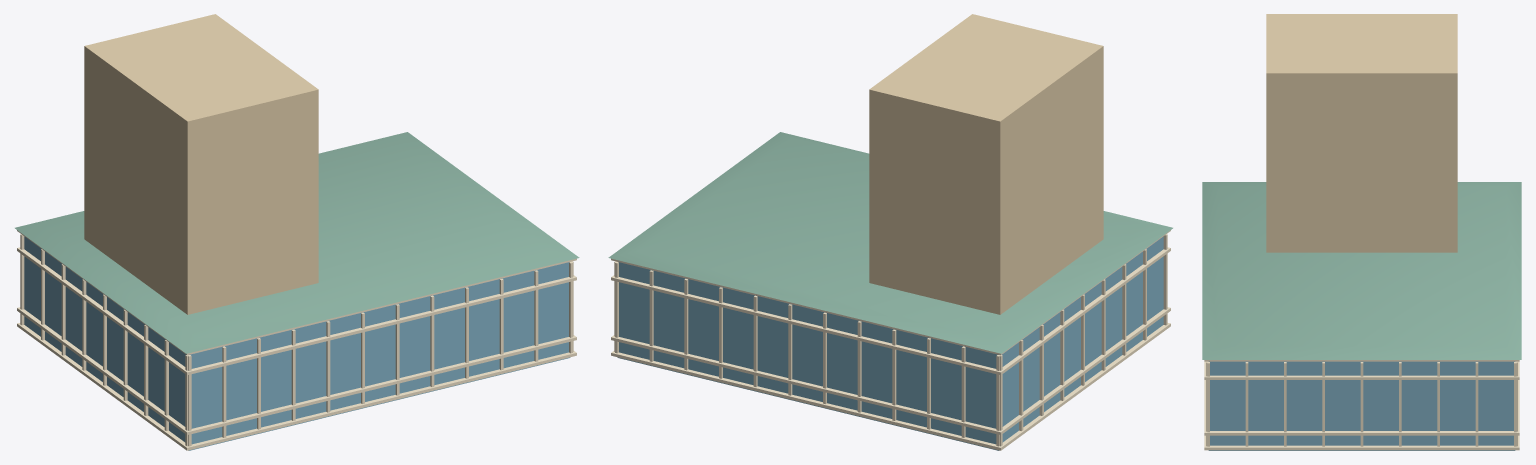
The model's file is modern-3-lod1.glb.
3 views of the same model, side by side, from view 1: azimuth 30°, elevation 25°; view 2: azimuth 150°, elevation 25°; view 3: azimuth 270°, elevation 25° (orthographic). The views are drawn at different scales.
Parts seen in each view (by area): view 1: modern-3_architecture; view 2: modern-3_architecture; view 3: modern-3_architecture.
Part boxes in pixels (box(x1,y1,x2,y2)): modern-3_architecture: box(15, 14, 579, 450); modern-3_architecture: box(608, 14, 1172, 450); modern-3_architecture: box(1202, 14, 1521, 450).
Size of the model in its own units: 33 by 24 by 25.
